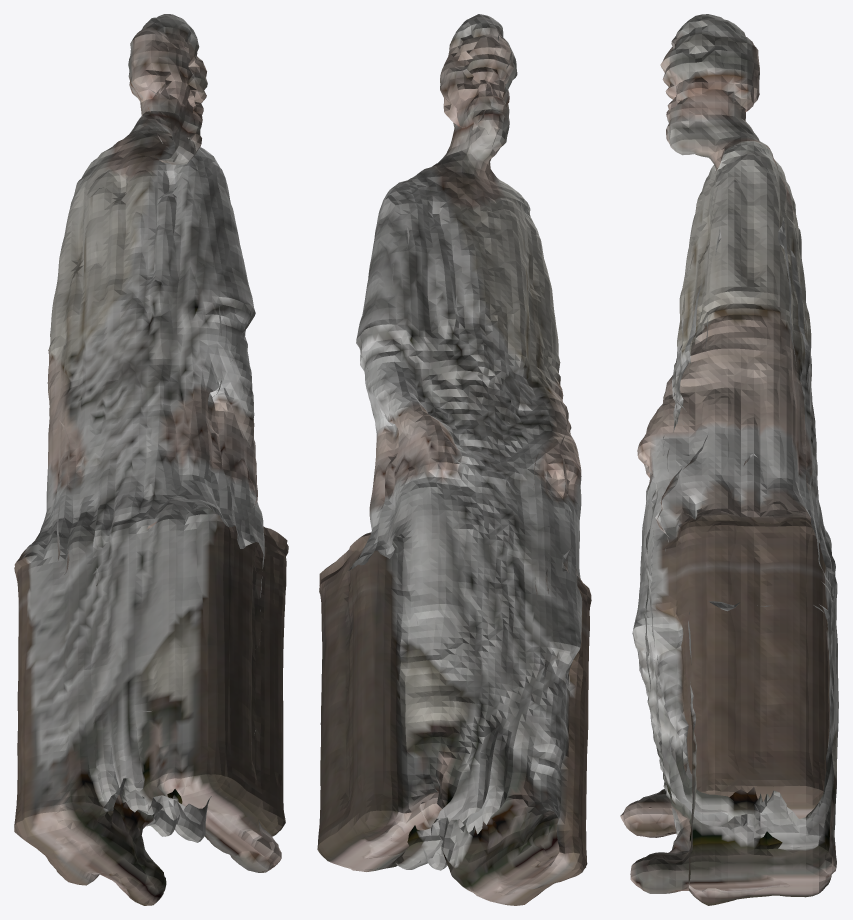
The model's file is senator_seated_clean.glb.
3 views of the same model, side by side, from view 1: azimuth 30°, elevation 25°; view 2: azimuth 150°, elevation 25°; view 3: azimuth 270°, elevation 25° (orthographic).
Visible parts, largest first — view 1: world; view 2: world; view 3: world.
Boxes of the visible parts, x1,y1,x2,y2 form: world: (14,14,288,905); world: (317,14,591,905); world: (620,14,838,905).
Size of the model in its own units: 0.2744 by 0.9789 by 0.2294.
